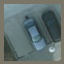car: (28, 16, 41, 50), (47, 10, 60, 44)
